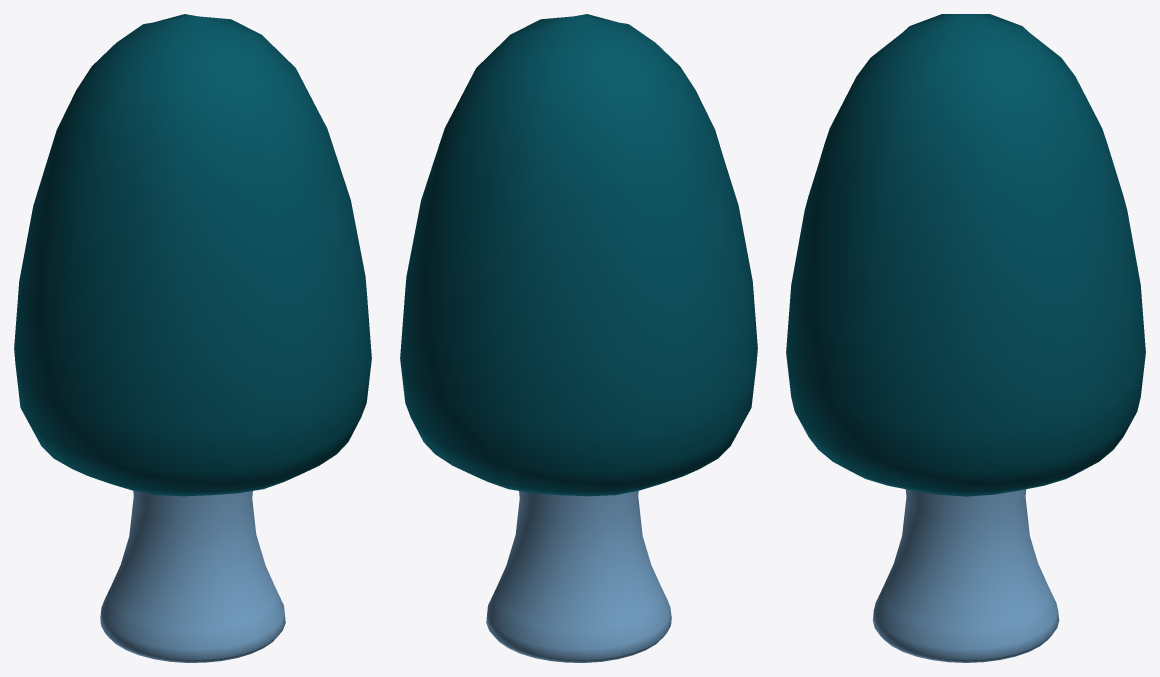
The model's file is Mushroom magic3.fbx.
3 renders of one model, left to right at view 1: azimuth 30°, elevation 25°; view 2: azimuth 150°, elevation 25°; view 3: azimuth 270°, elevation 25°, orthographic.
Visible parts, largest first — view 1: Cube.005; view 2: Cube.005; view 3: Cube.005.
Part boxes in pixels (bbox=[...]): Cube.005: bbox=[14, 14, 371, 662]; Cube.005: bbox=[400, 14, 757, 662]; Cube.005: bbox=[786, 14, 1145, 662].
Bounding box in the file's own units: 210 × 395 × 210.
